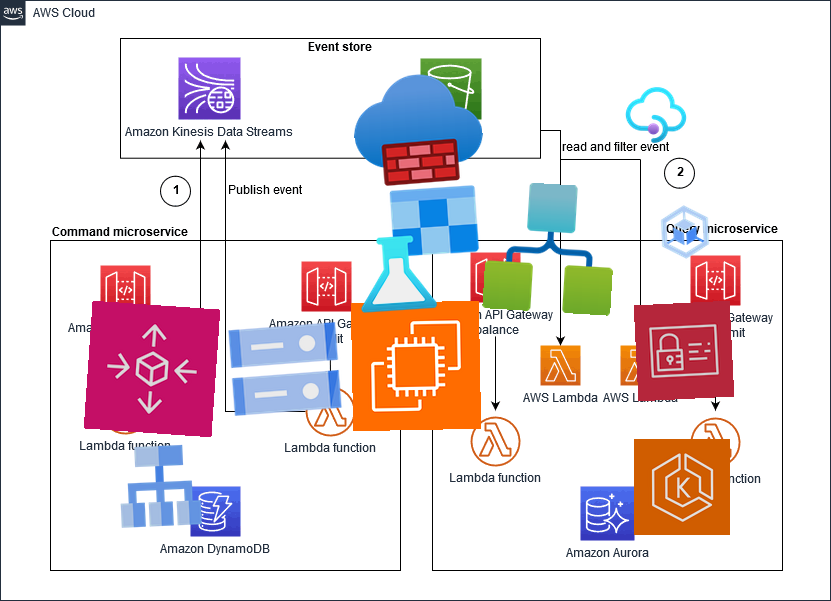aws_amazon_ec2: (350, 300, 482, 432)
aws_amazon_elastic_kubernetes_service: (633, 438, 731, 536)
aws_auto_scaling: (83, 300, 221, 438)
aws_identity_and_access_management: (633, 300, 735, 402)
azure_api_management_services: (623, 82, 689, 148)
azure_firewalls: (349, 60, 487, 198)
azure_logic_apps: (482, 180, 618, 316)
azure_machine_learning_studio_workspaces: (349, 180, 487, 318)
gcp_cloud_load_balancing: (109, 435, 211, 537)
gcp_cloud_storage: (216, 300, 354, 438)
gcp_google_kubernetes_engine: (651, 198, 719, 266)
